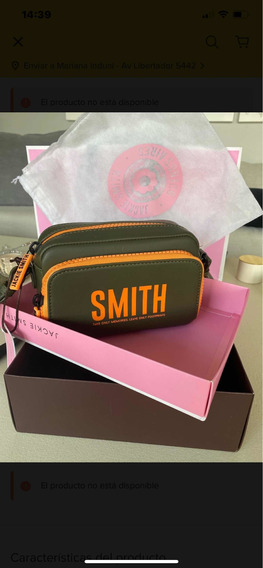cartera: (11, 217, 211, 336)
